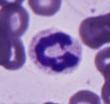N: (29, 30, 82, 76)
